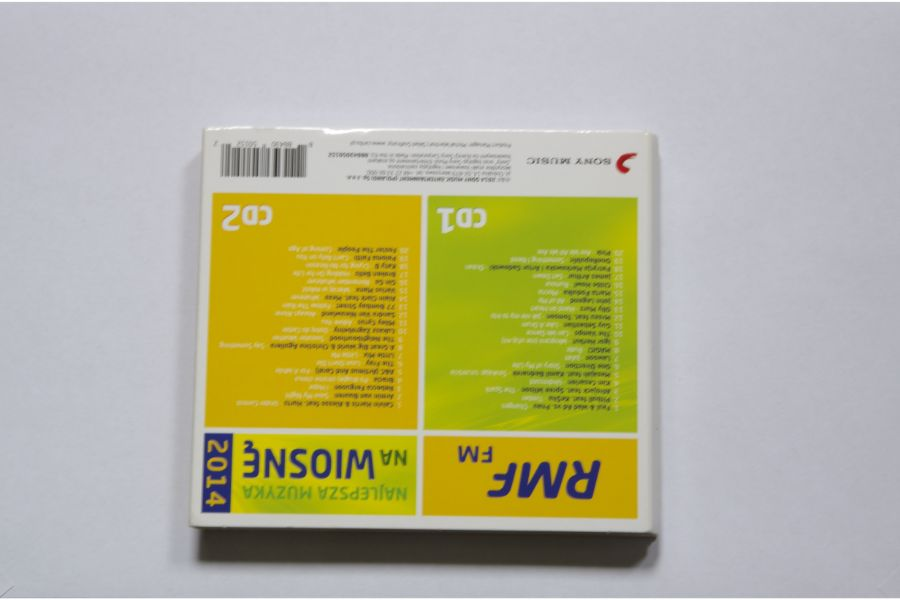album: (188, 124, 660, 537)
